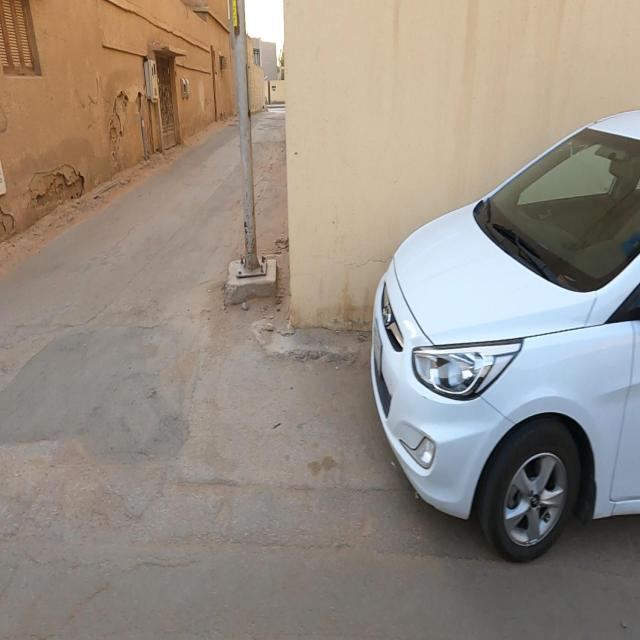Graffiti: (74, 74, 110, 131)
